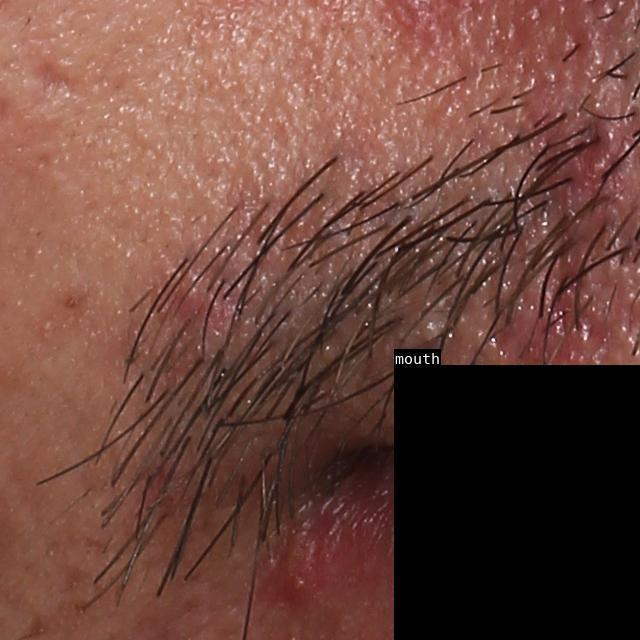atrophic_scar: (20, 53, 78, 105)
papule: (267, 550, 335, 618), (164, 270, 208, 318)
